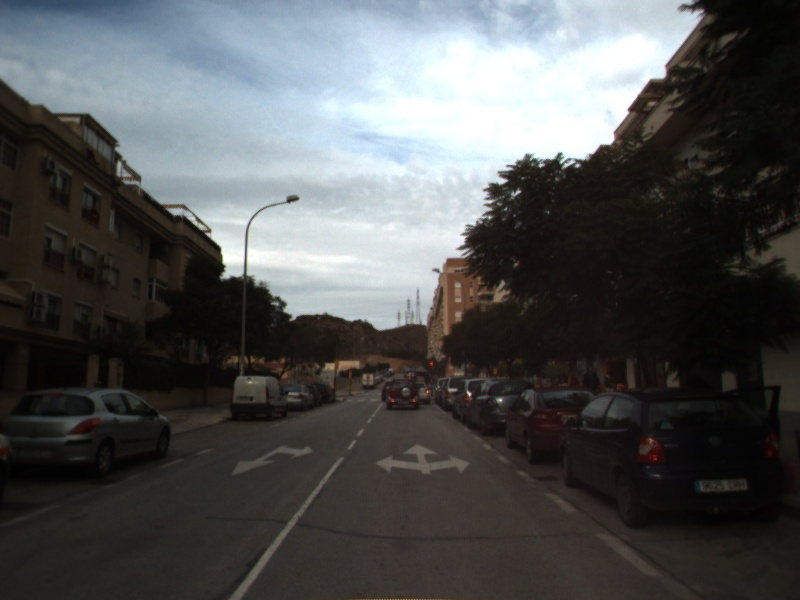STRAIGHT_LEFT_RIGHT: (373, 442, 472, 476)
